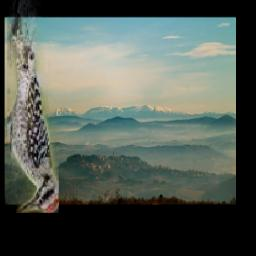Woodpecker: (8, 0, 60, 214)
